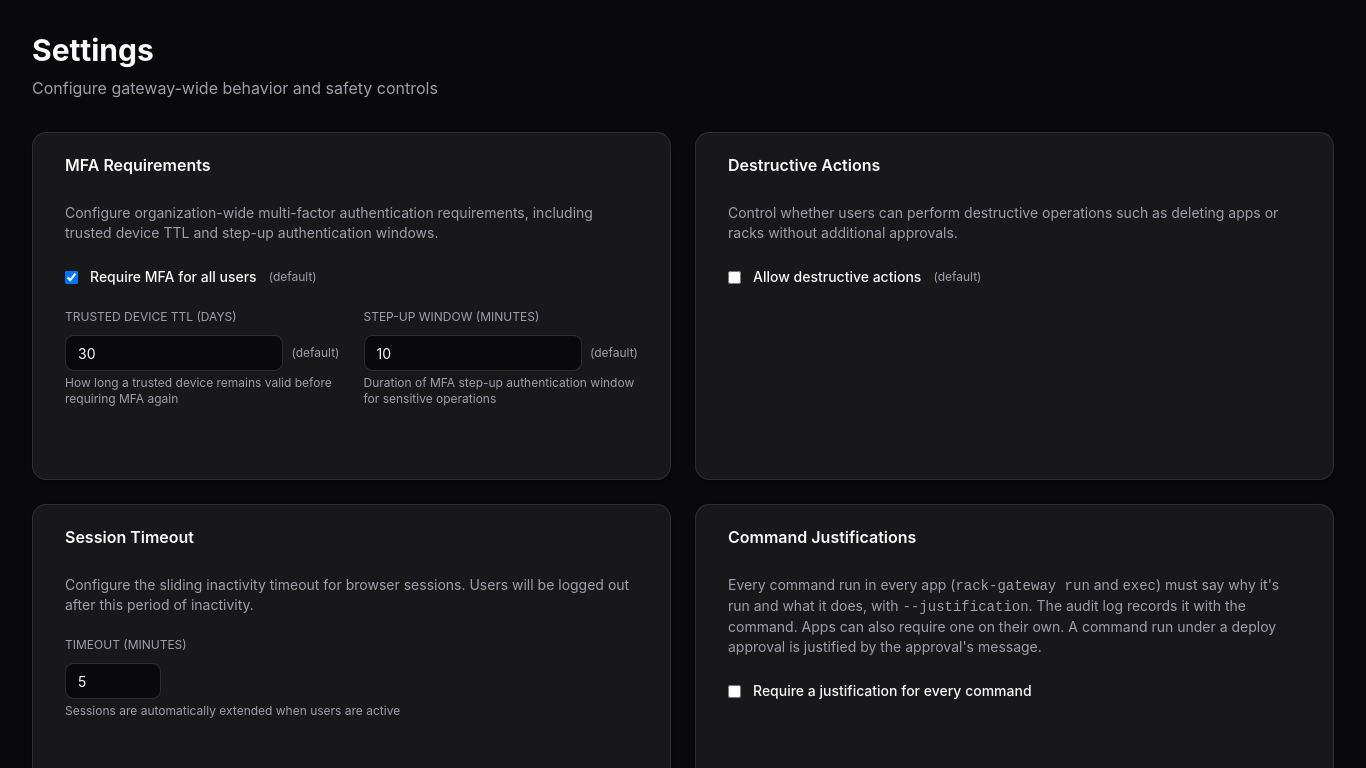
Test case: SettingsPage › Updating settings › discards changes when Cancel is clicked
# Check the checkbox
Step 1. Click the checkbox labelled "Allow destructive actions (default)" → [734, 277], box x1=728 y1=270 x2=741 y2=284
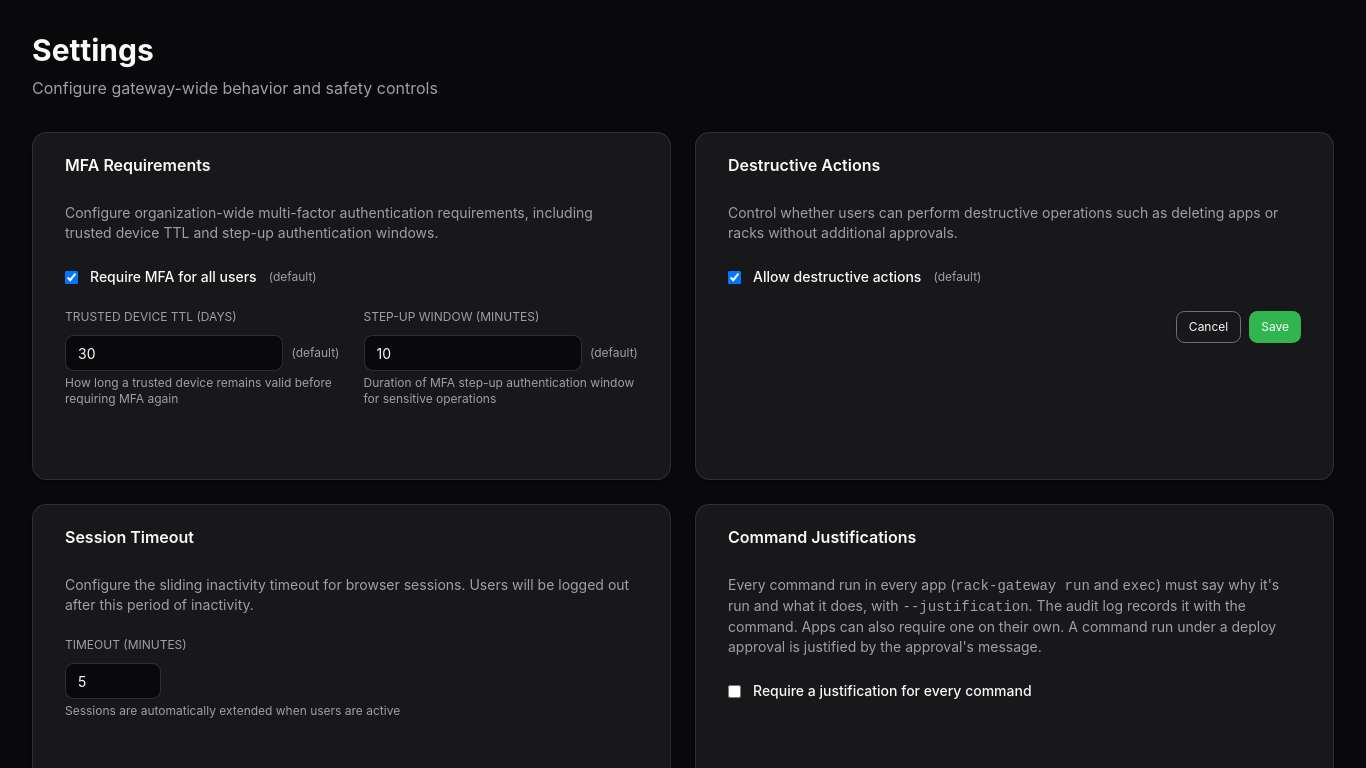
Result: the checkbox labelled "Allow destructive actions (default)" is checked at x1=728 y1=270 x2=741 y2=284
Step 2. Click the button "Cancel" → [1209, 327], box x1=1176 y1=311 x2=1241 y2=343
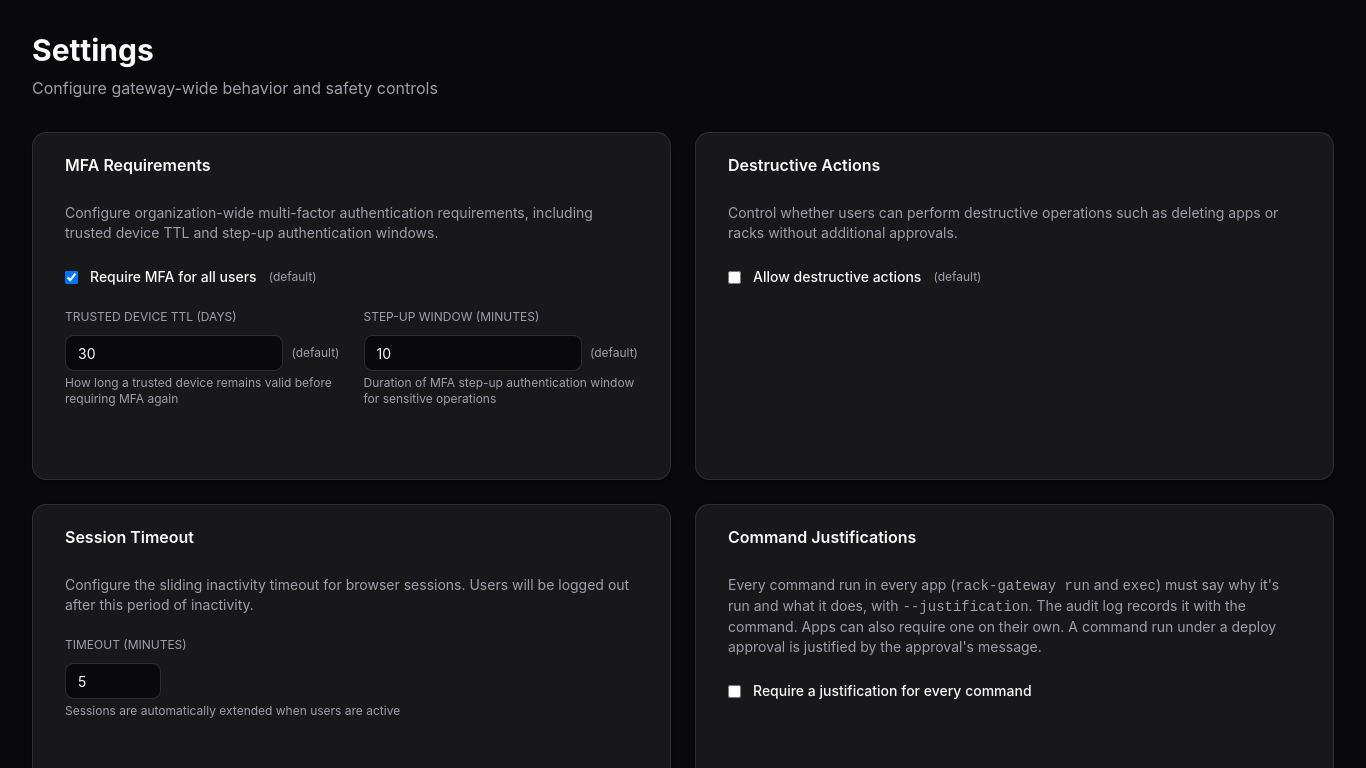
Result: the checkbox labelled "Allow destructive actions (default)" is not checked at x1=728 y1=270 x2=741 y2=284
Result: the button "Save" is gone
Result: the button "Cancel" is gone
